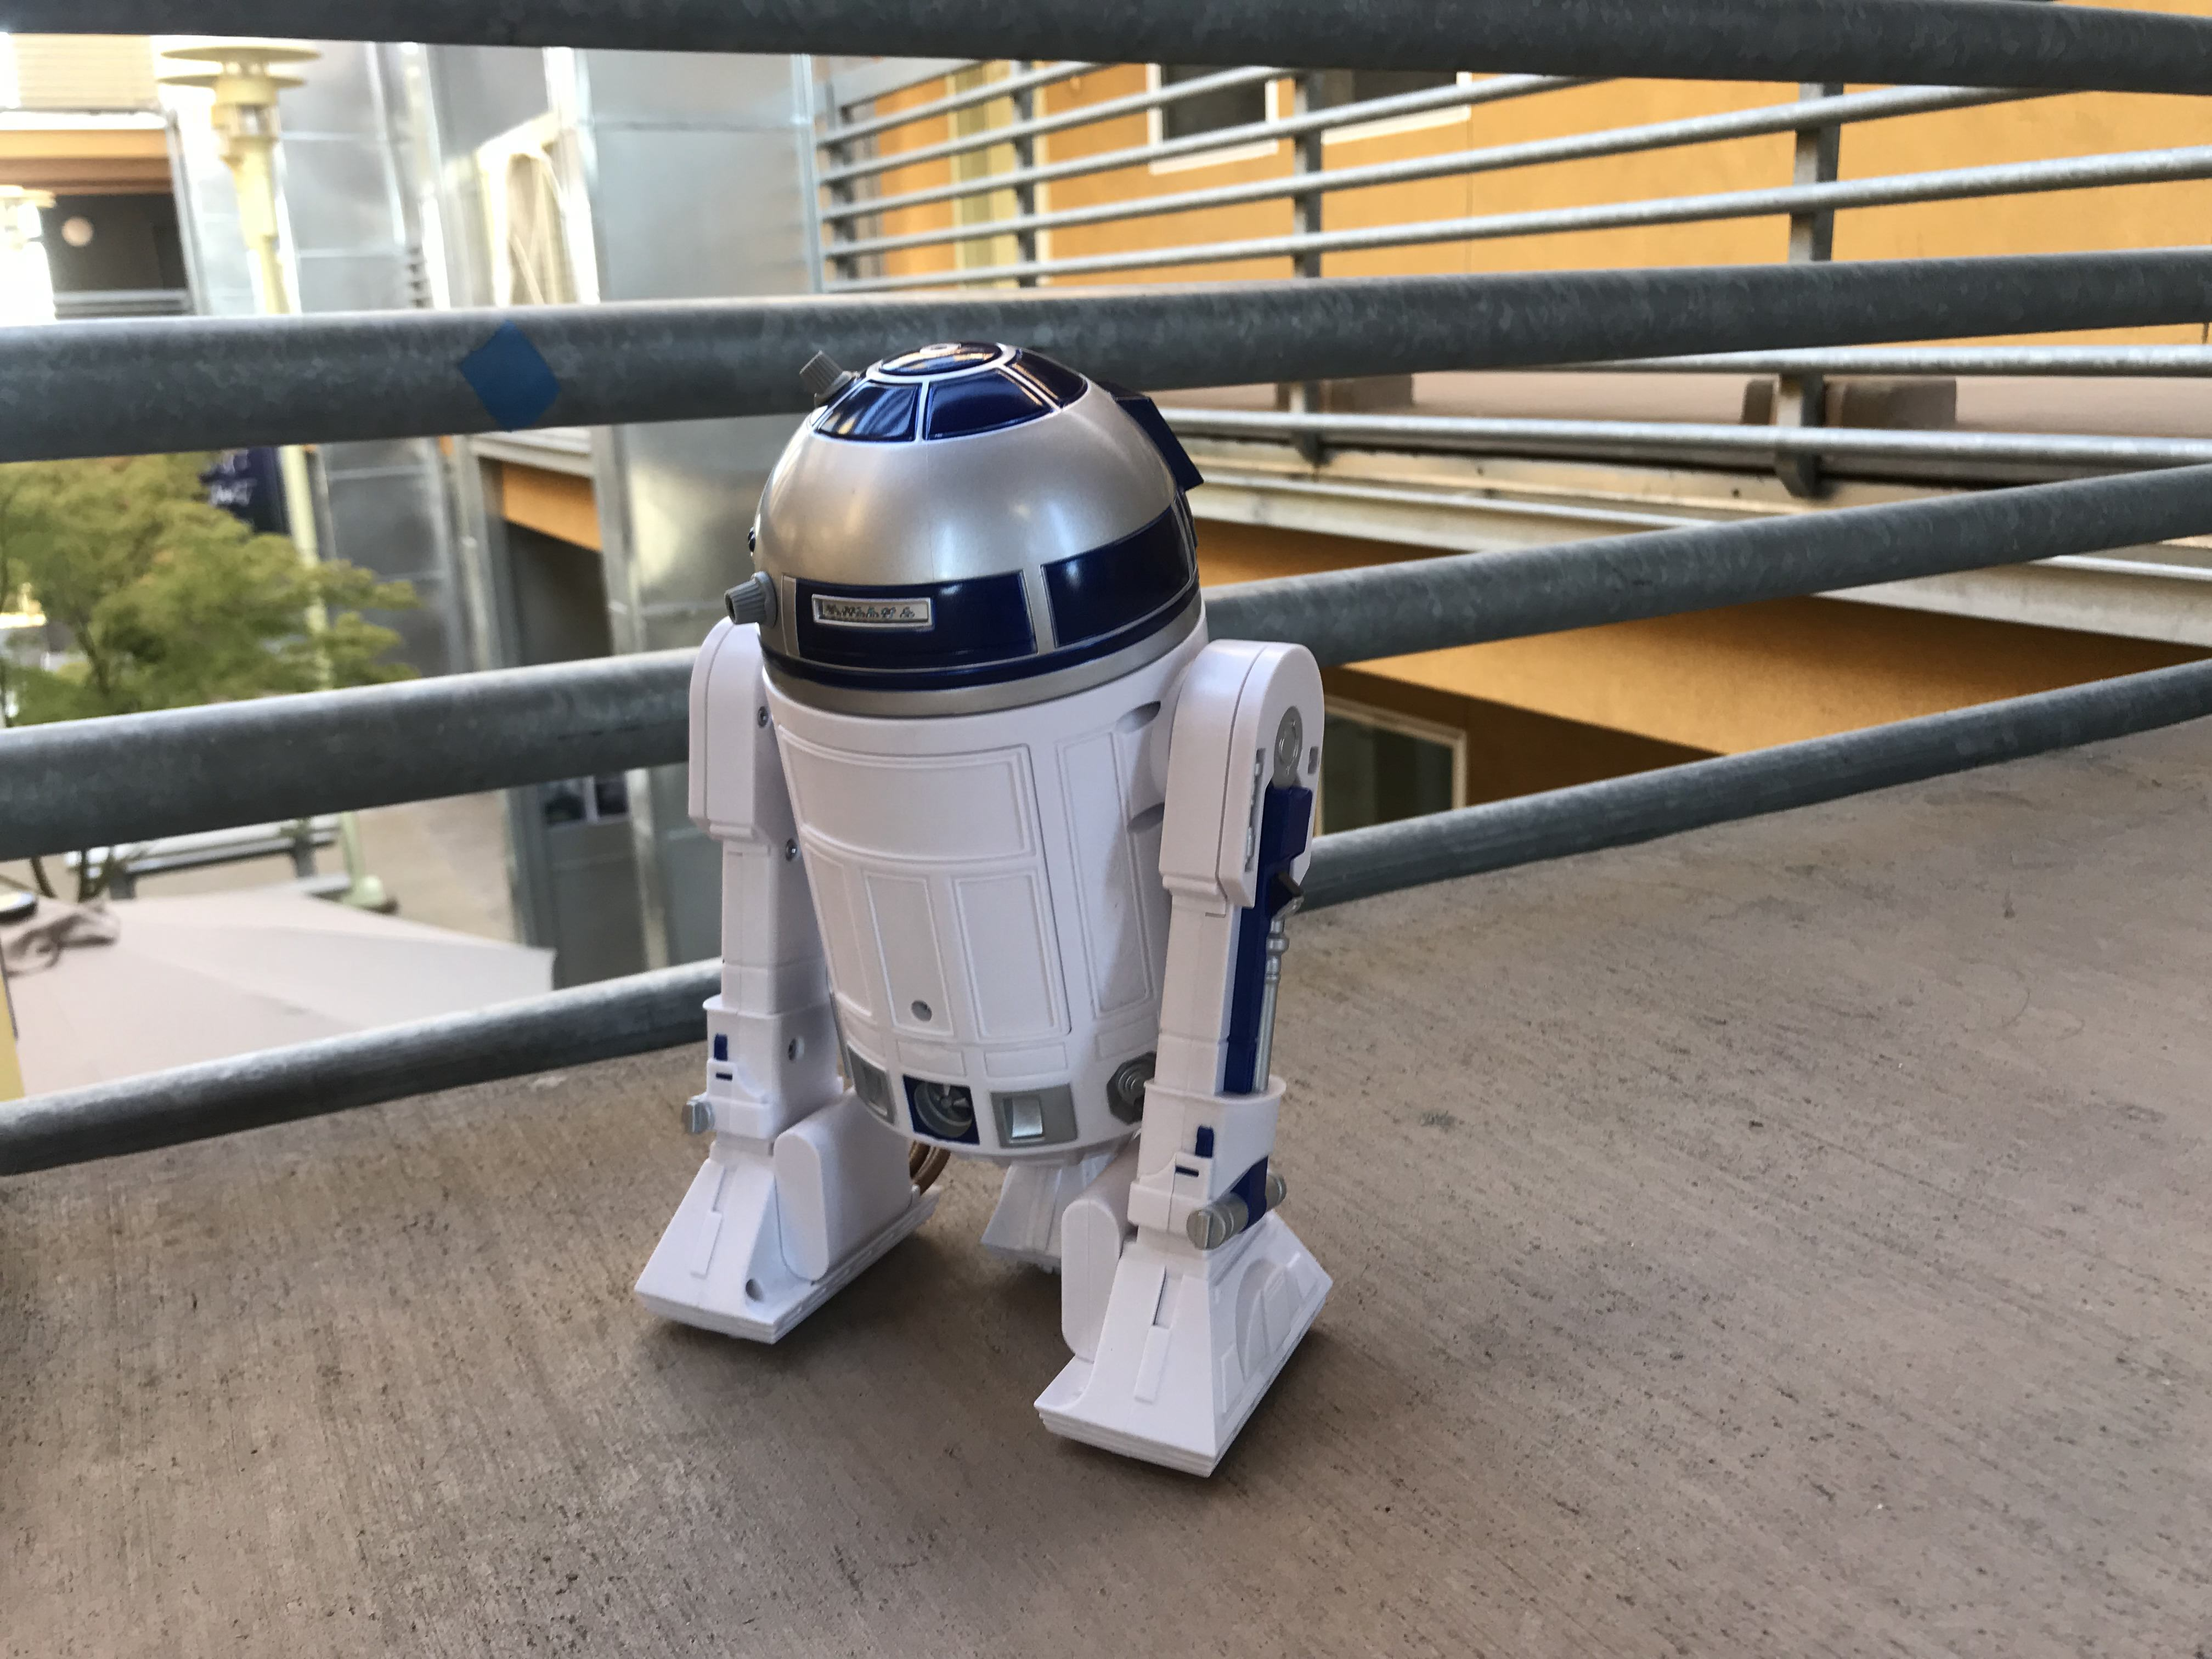r2d2: (637, 340, 1324, 1478)
